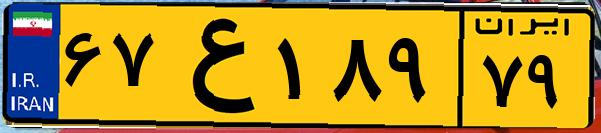1: (270, 28, 330, 110)
6: (57, 26, 110, 100)
7: (475, 38, 525, 113), (110, 28, 158, 98)
8: (330, 28, 385, 110)
9: (385, 28, 445, 110), (525, 38, 570, 115)
ع: (158, 12, 270, 120)
